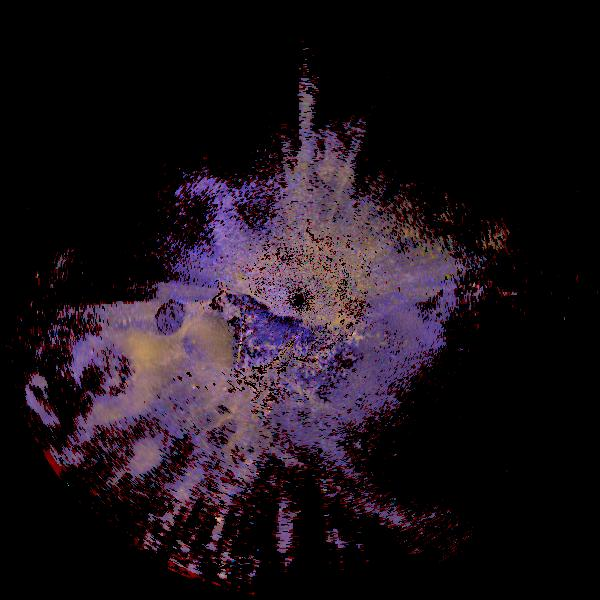roost: (60, 318, 171, 429), (89, 410, 164, 485)
